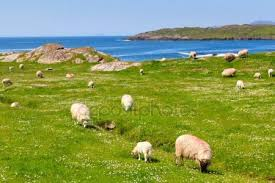sheep: (172, 135, 217, 172), (69, 100, 96, 132), (128, 141, 157, 165), (118, 94, 137, 117), (220, 66, 239, 77), (234, 78, 247, 94), (65, 71, 81, 82), (16, 62, 30, 73), (2, 77, 16, 88), (35, 69, 47, 80), (252, 71, 264, 82), (9, 66, 21, 76), (84, 80, 95, 90), (138, 67, 148, 78), (264, 67, 275, 76), (237, 51, 248, 60), (189, 50, 197, 62)
